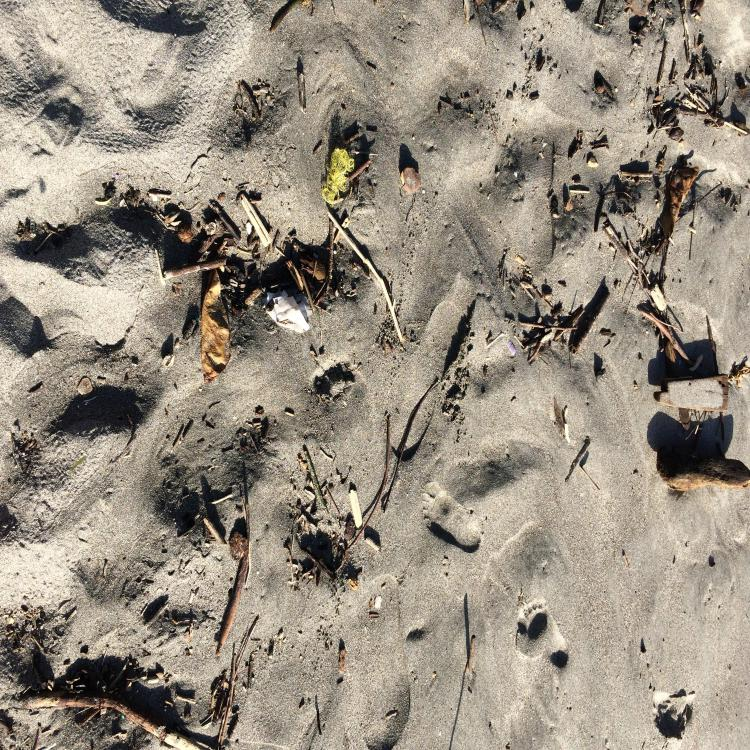Normal paper: (262, 290, 313, 333)
Other plastic wrapper: (507, 340, 516, 357)
Rope - strings: (322, 148, 354, 208)
